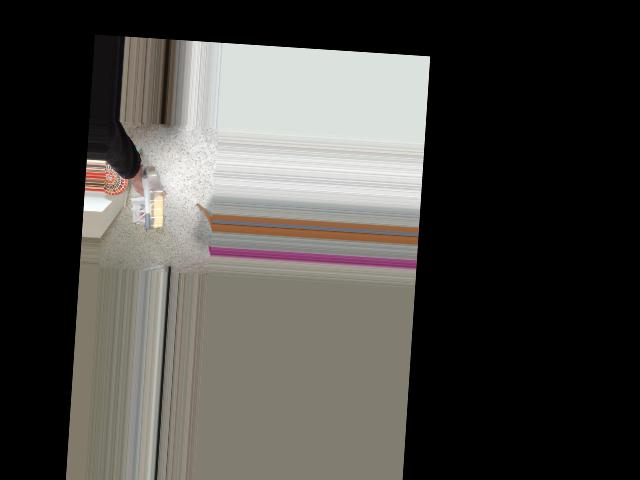cheese: (105, 176, 183, 232)
